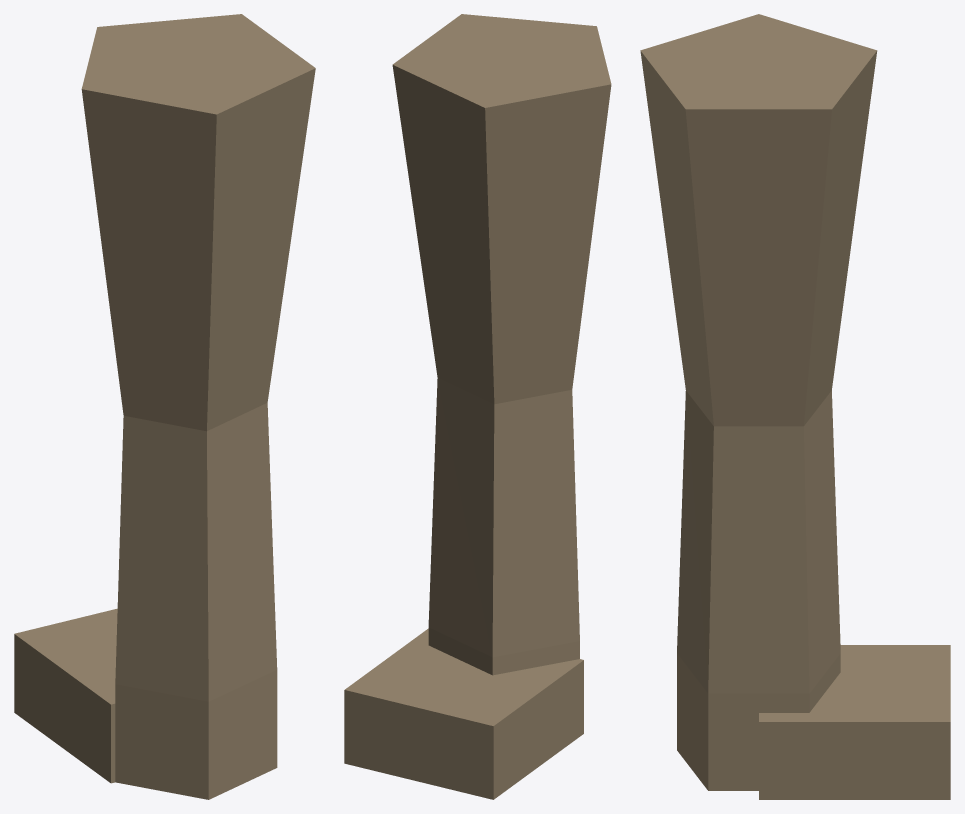
Rendered from animal_lynx_leg.obj.
3 renders of one model, left to right at view 1: azimuth 30°, elevation 25°; view 2: azimuth 150°, elevation 25°; view 3: azimuth 270°, elevation 25°, orthographic. The views are drawn at different scales.
Visible parts, largest first — view 1: animal_lynx_leg; view 2: animal_lynx_leg; view 3: animal_lynx_leg.
Part boxes in pixels (x1,y1,x2,y2): animal_lynx_leg: (14, 14, 315, 799); animal_lynx_leg: (344, 14, 611, 799); animal_lynx_leg: (640, 14, 950, 799).
Size of the model in its own units: 0.0908 by 0.3087 by 0.1249.
